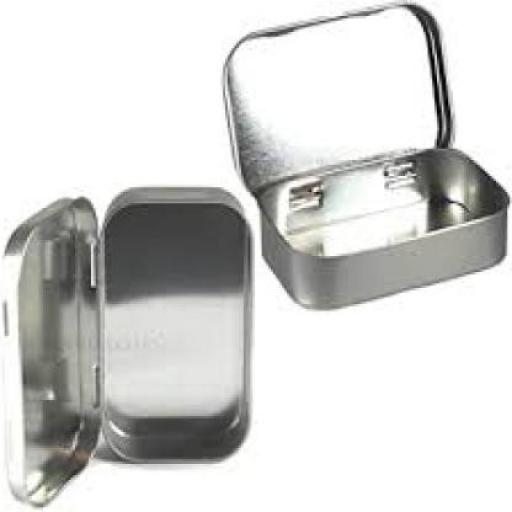metal: (100, 186, 257, 464), (225, 3, 453, 187), (263, 142, 511, 308), (2, 195, 104, 502)
